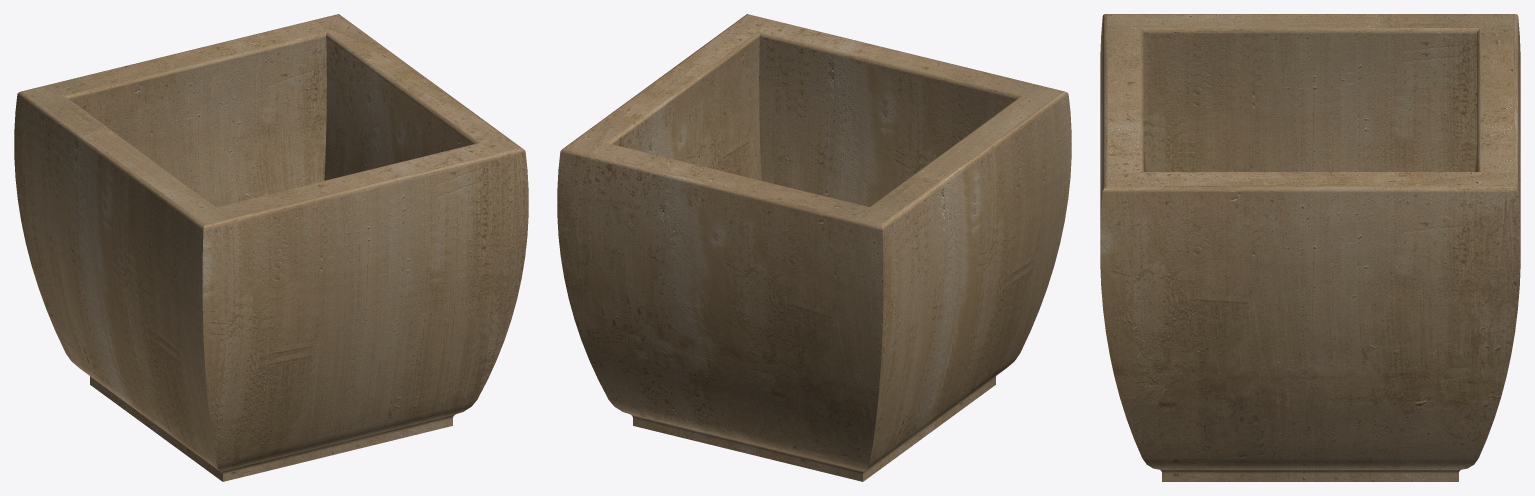
The picture shows the model from 3 angles, left to right: view 1: azimuth 30°, elevation 25°; view 2: azimuth 150°, elevation 25°; view 3: azimuth 270°, elevation 25°; orthographic projection. The views are drawn at different scales.
Visible parts, largest first — view 1: mesh1_mesh1-geometry; view 2: mesh1_mesh1-geometry; view 3: mesh1_mesh1-geometry.
Boxes of the visible parts, bbox=[...] form: mesh1_mesh1-geometry: bbox=[14, 14, 528, 481]; mesh1_mesh1-geometry: bbox=[557, 14, 1071, 481]; mesh1_mesh1-geometry: bbox=[1100, 14, 1520, 481].
Size of the model in its own units: 0.6085 by 0.5095 by 0.6085.
